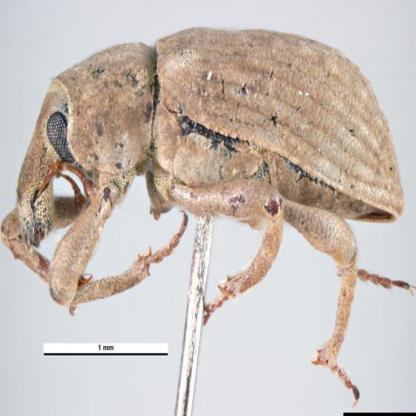rice-bug: (2, 26, 411, 406)
